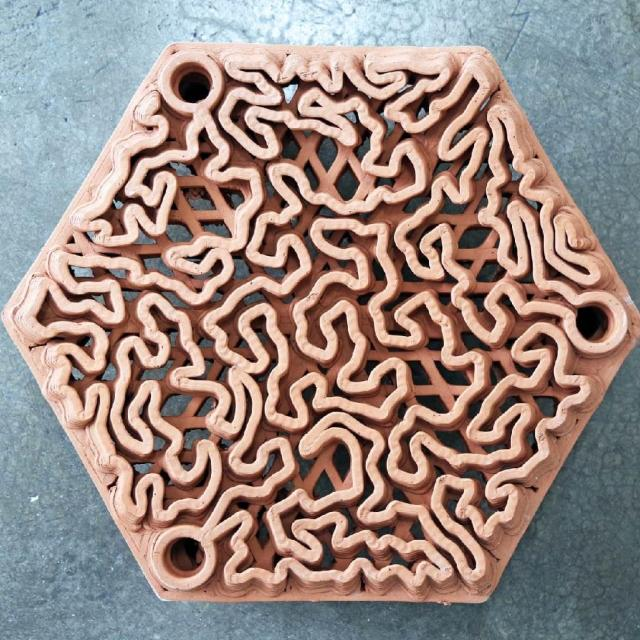Without deffect: (9, 27, 634, 620)
